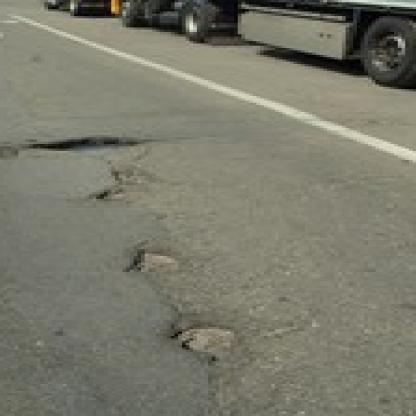pothole: (175, 324, 245, 359), (26, 135, 152, 153), (126, 247, 182, 272), (115, 162, 148, 185), (100, 185, 126, 204)
